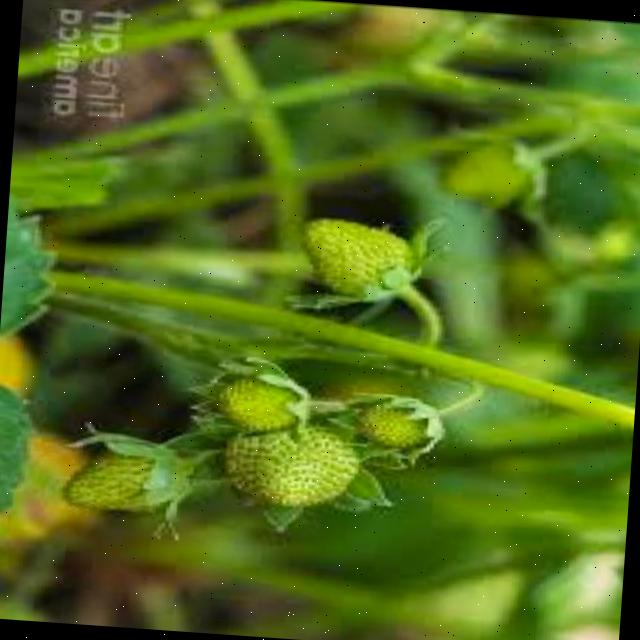strawberry: (224, 419, 360, 507), (61, 437, 192, 513), (300, 214, 417, 296), (444, 138, 542, 202), (214, 370, 310, 432), (360, 394, 438, 446)
